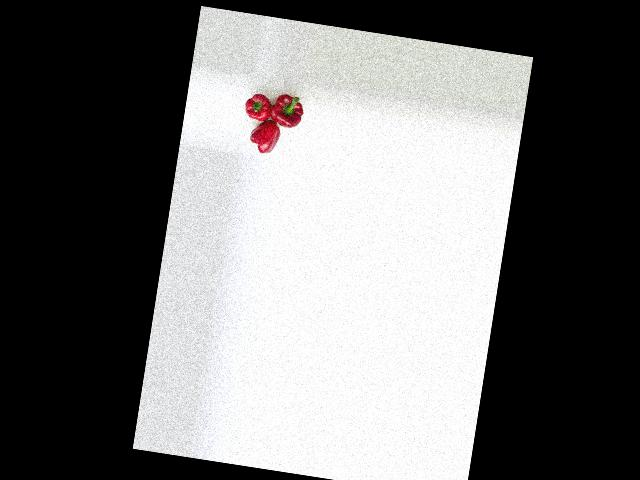bell_pepper: (241, 115, 284, 160)
